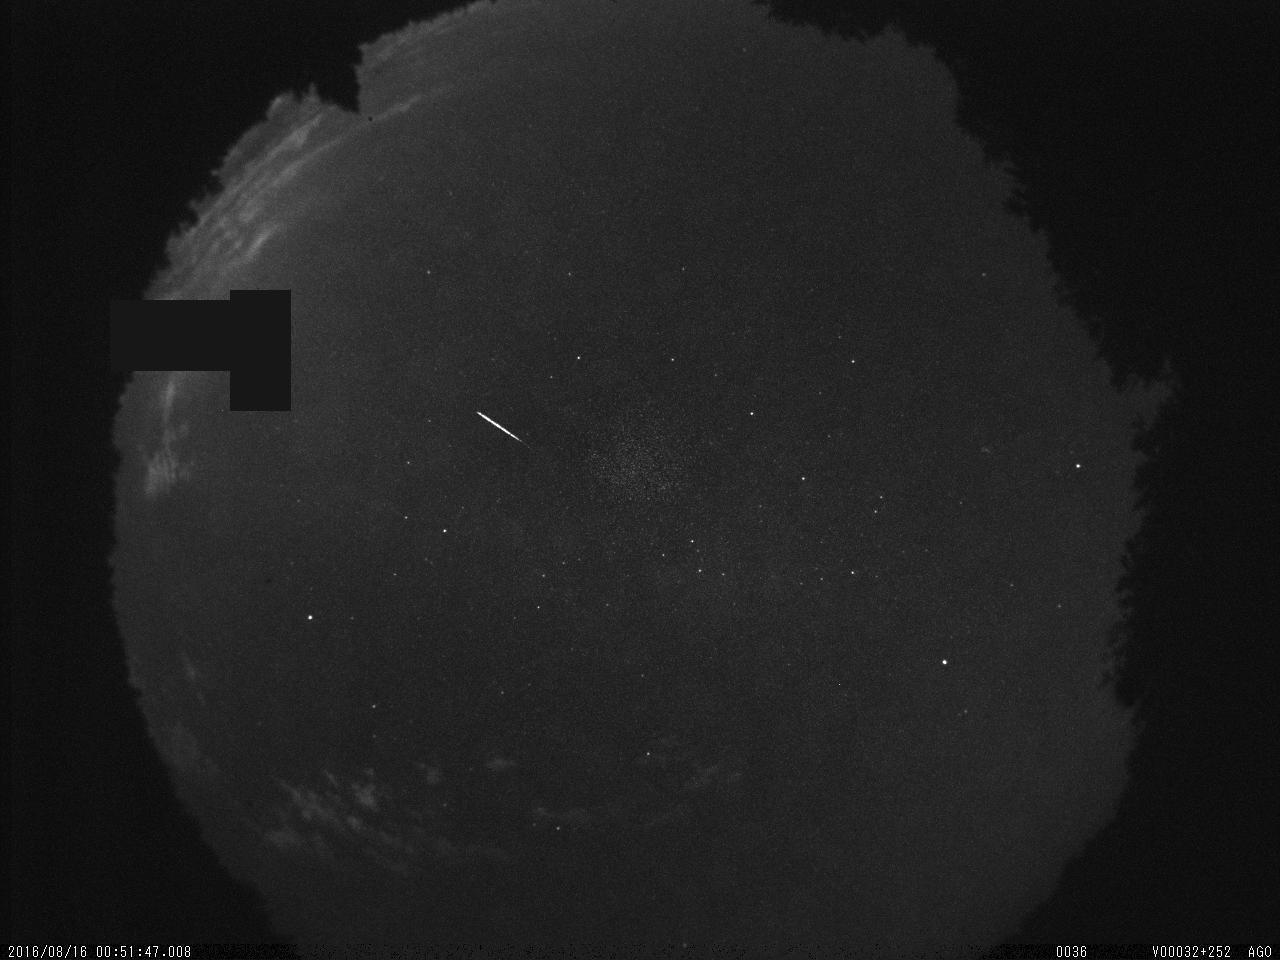meteor: (472, 406, 539, 456)
